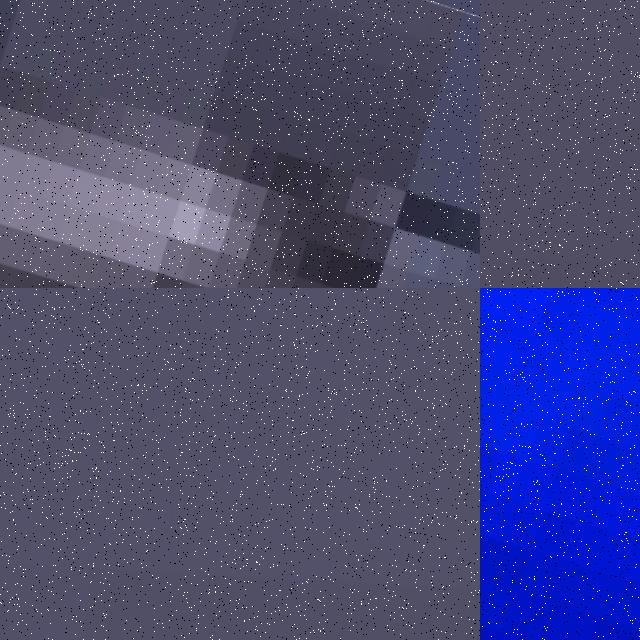0: (0, 0, 480, 288)
drone: (480, 288, 640, 640)
